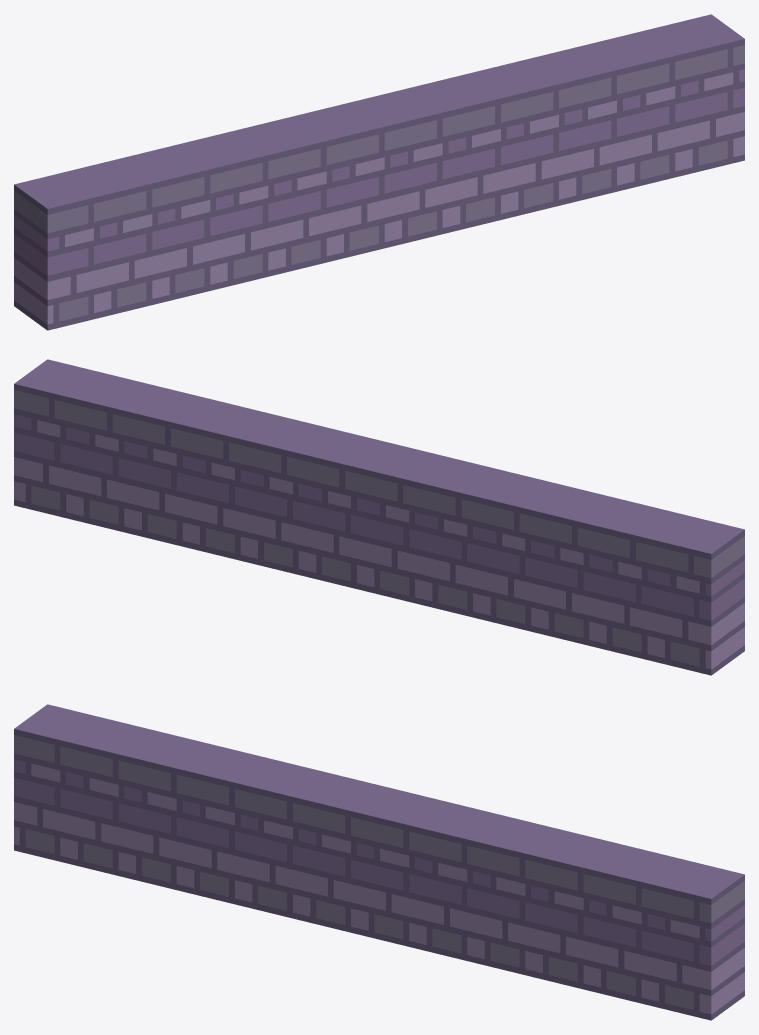
The model's file is wall_Full.obj.
3 renders of one model, top to bottom at view 1: azimuth 30°, elevation 25°; view 2: azimuth 150°, elevation 25°; view 3: azimuth 330°, elevation 25°, orthographic.
Visible parts, largest first — view 1: wall_Full; view 2: wall_Full; view 3: wall_Full.
Part boxes in pixels (x1,y1,x2,y2): wall_Full: [14, 14, 744, 330]; wall_Full: [14, 359, 744, 675]; wall_Full: [14, 704, 744, 1020].
Bounding box in the file's own units: 120 × 20 × 10.
Materials: 1 (1 with a texture image).
